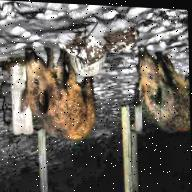boar: (6, 35, 107, 143), (121, 50, 191, 140)
